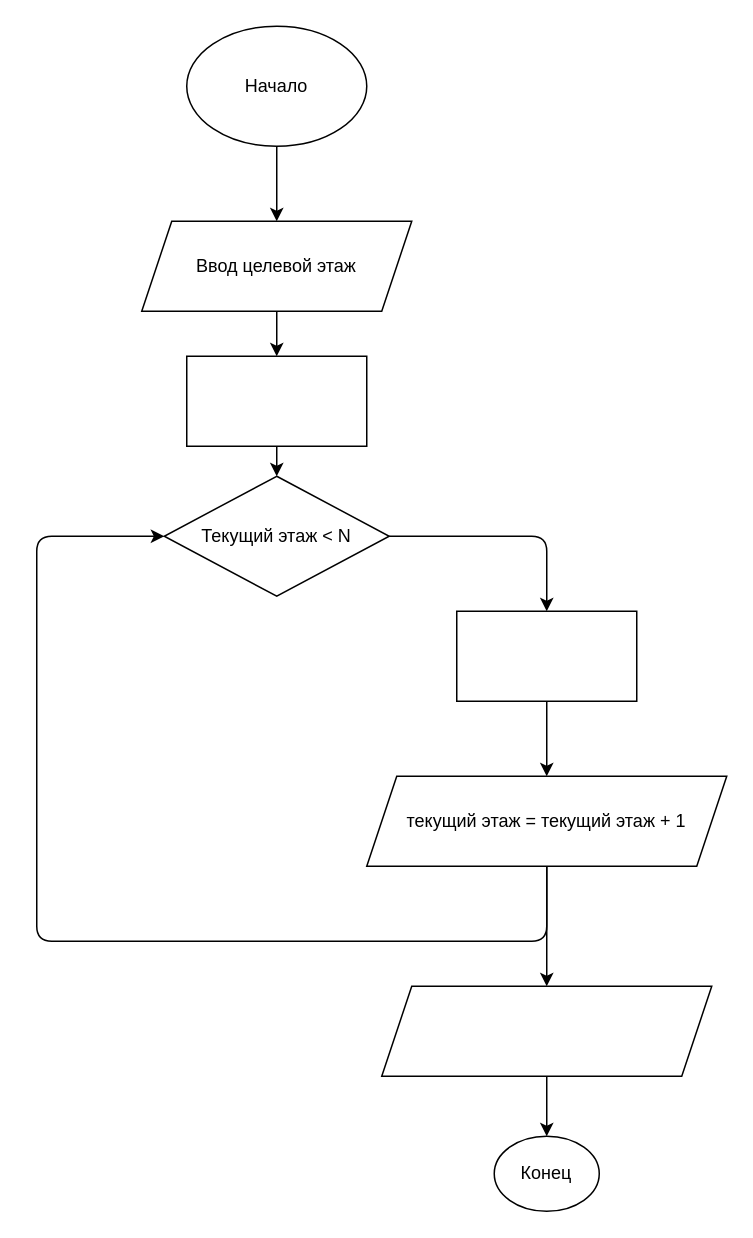
The diagram is 753 pixels wide and 1238 high, and some of its shapes have lost their labels. The shapes that lost their labels are listed below. From the top down, each one's centre as x and y in pixels, then its label:
pixel 276 400: Текущий этаж
pixel 546 655: Подняться на этаж выше
pixel 546 1030: Вы на целевом этаже!
